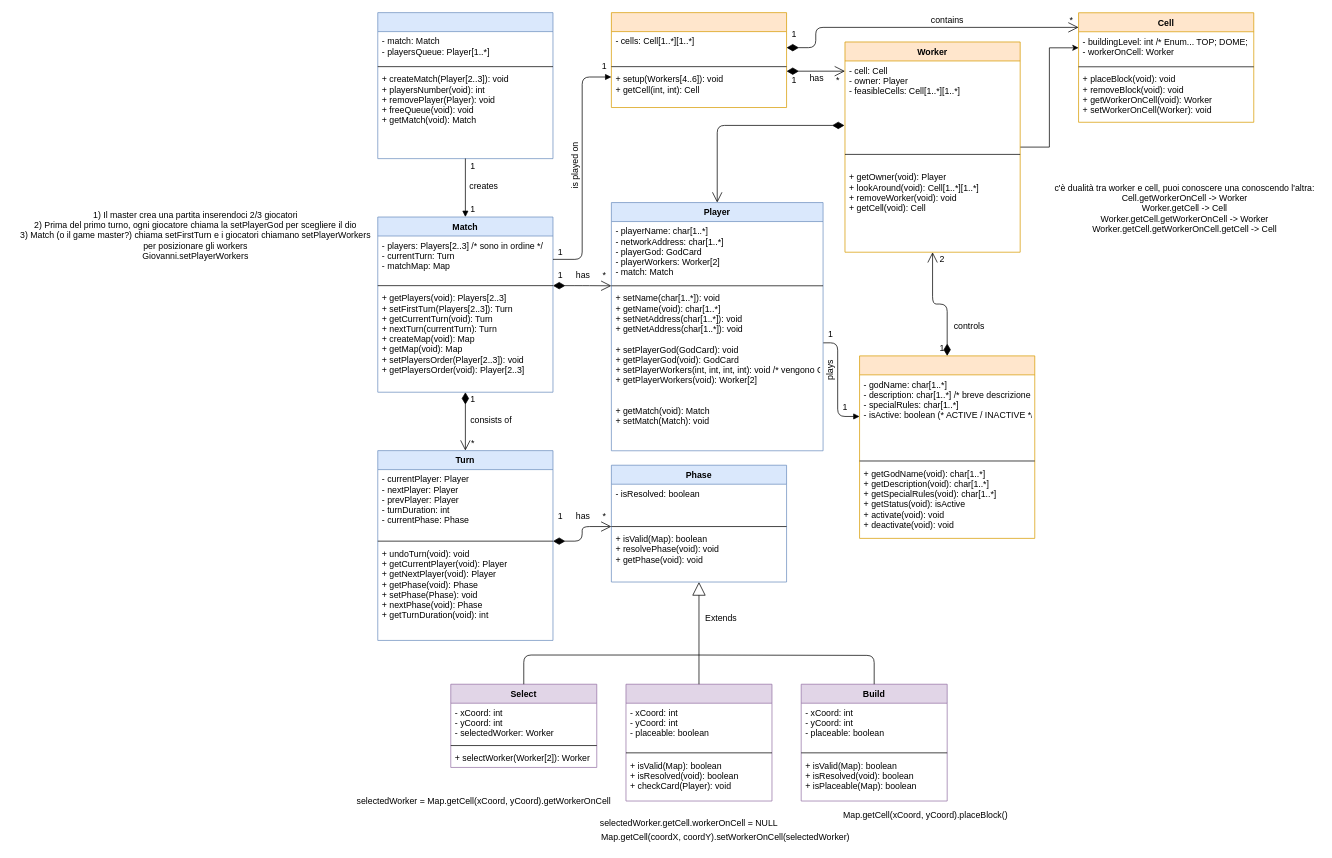
Some shapes in this 1332 by 858 pixel diagram are drawn without their labels. The shapes that lost their labels are listed below. From the top down, each one's box as (x1, y1, x2, y2) in pixels, then its label:
(611, 12, 787, 108): Map
(377, 12, 553, 159): GameMaster
(859, 355, 1035, 538): GodCard
(625, 683, 772, 801): Move
